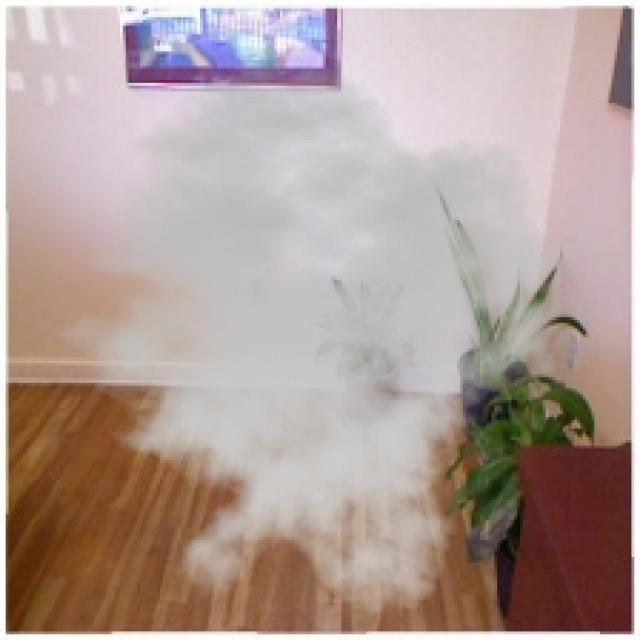Smoke: (31, 65, 592, 618)
